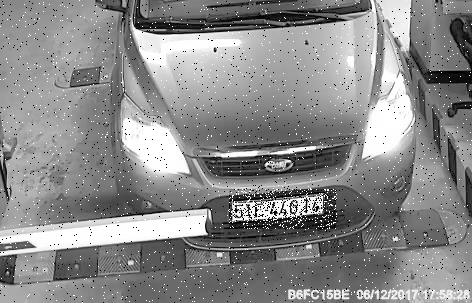License-plate: (231, 190, 339, 230)
